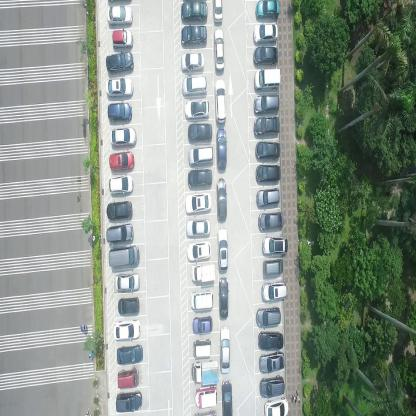car: (191, 357, 219, 385), (108, 243, 140, 267), (105, 50, 134, 74), (112, 318, 141, 341), (184, 192, 212, 215), (254, 67, 282, 90), (105, 222, 134, 244), (259, 374, 284, 399), (214, 77, 227, 125), (180, 23, 207, 46), (261, 233, 288, 256), (258, 350, 285, 373), (109, 126, 137, 148), (253, 115, 281, 137), (219, 323, 231, 373), (108, 150, 135, 172), (105, 76, 134, 96), (186, 240, 211, 263), (190, 262, 215, 285), (253, 93, 279, 115), (116, 342, 142, 364), (116, 390, 142, 412), (187, 145, 214, 166), (190, 288, 214, 311), (194, 384, 217, 408), (262, 279, 286, 302), (180, 51, 205, 73), (255, 186, 280, 208), (256, 305, 281, 327), (107, 4, 133, 25), (108, 174, 134, 195), (106, 200, 132, 221), (182, 75, 208, 96), (184, 98, 210, 119), (253, 22, 279, 43), (258, 211, 284, 232), (181, 1, 208, 21), (252, 46, 279, 66), (185, 217, 210, 238), (114, 272, 140, 292), (187, 122, 213, 142), (255, 140, 281, 160), (214, 25, 225, 72), (257, 331, 284, 350), (117, 365, 139, 388), (107, 102, 132, 122), (187, 168, 212, 188), (216, 177, 227, 222), (216, 127, 227, 171), (217, 227, 228, 271), (264, 395, 288, 415), (255, 0, 280, 19), (255, 164, 281, 182), (221, 378, 233, 416), (191, 336, 212, 357), (262, 257, 283, 278), (218, 275, 228, 318), (192, 312, 212, 332), (112, 29, 133, 48), (118, 296, 139, 315), (212, 0, 224, 23)
